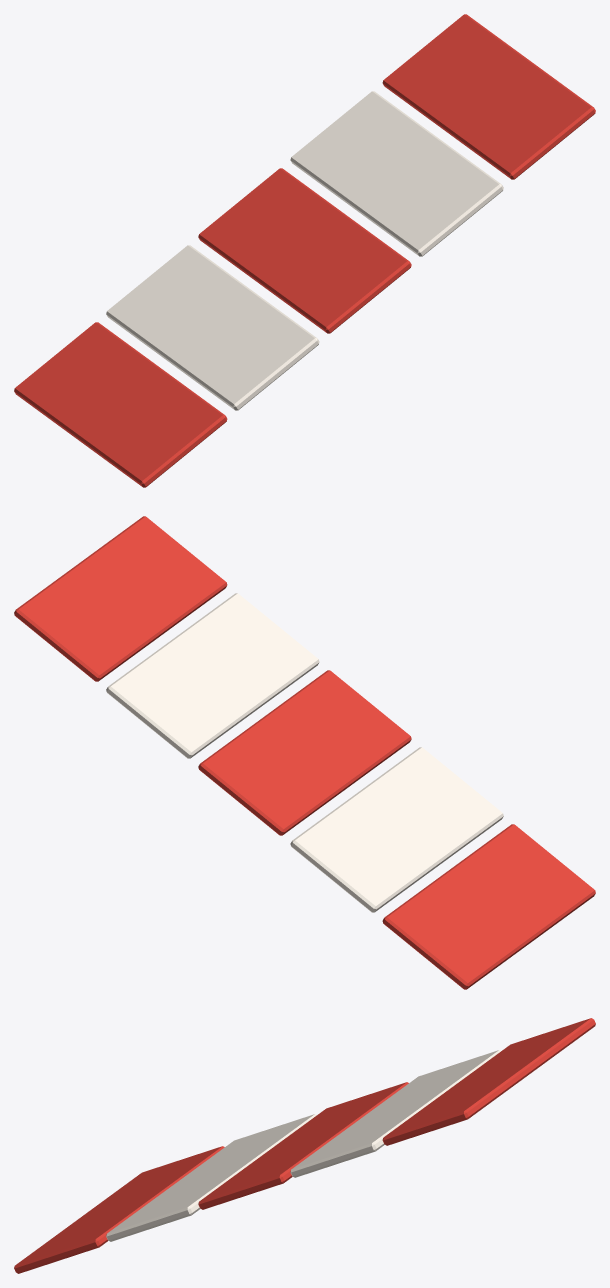
Rendered from deckchair.glb.
3 renders of one model, top to bottom at view 1: azimuth 30°, elevation 25°; view 2: azimuth 150°, elevation 25°; view 3: azimuth 330°, elevation 25°, orthographic.
Parts seen in each view (by area): view 1: deckchair; view 2: deckchair; view 3: deckchair.
Boxes of the visible parts, x1=… form: deckchair: x1=14, y1=14, x2=595, y2=487; deckchair: x1=14, y1=516, x2=595, y2=989; deckchair: x1=14, y1=1018, x2=595, y2=1273.
Size of the model in its own units: 1.14 by 0.6478 by 0.56.
Materials: 1 (1 with a texture image).
